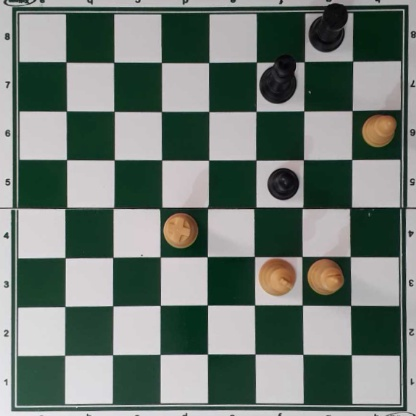black-king: (258, 53, 298, 104)
black-pawn: (267, 165, 299, 201)
black-rook: (307, 2, 351, 52)
white-bishop: (307, 258, 345, 295)
white-king: (256, 256, 297, 297)
white-pawn: (361, 112, 397, 148)
white-rook: (163, 212, 199, 249)
